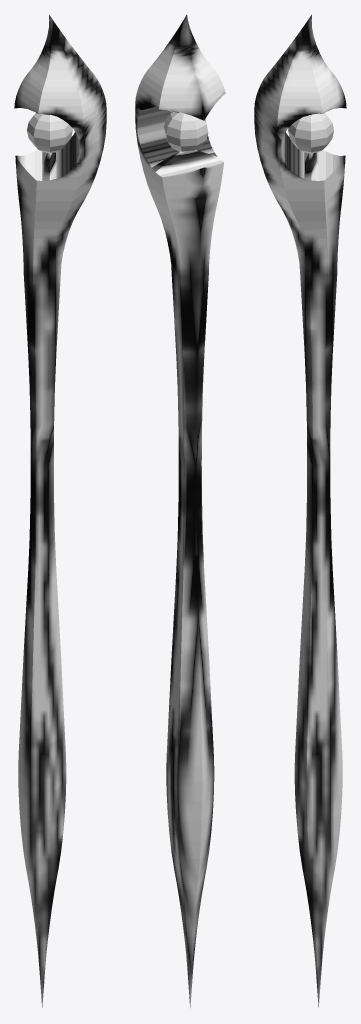
File: WandModel.fbx
3 views of the same model, side by side, from view 1: azimuth 90°, elevation 25°; view 2: azimuth 210°, elevation 25°; view 3: azimuth 270°, elevation 25° (orthographic).
Parts seen in each view (by area): view 1: Circle; view 2: Circle; view 3: Circle.
Boxes of the visible parts, bbox=[...] form: Circle: bbox=[14, 14, 106, 1007]; Circle: bbox=[135, 14, 225, 1007]; Circle: bbox=[254, 14, 346, 1007].
Size of the model in its own units: 4.28 by 58.94 by 4.94.
